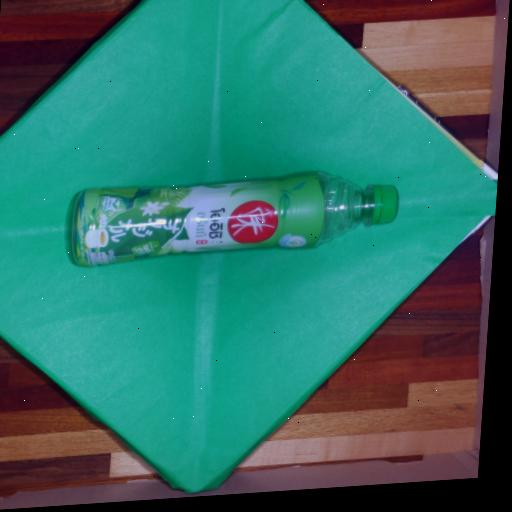bottle: (61, 168, 399, 273)
